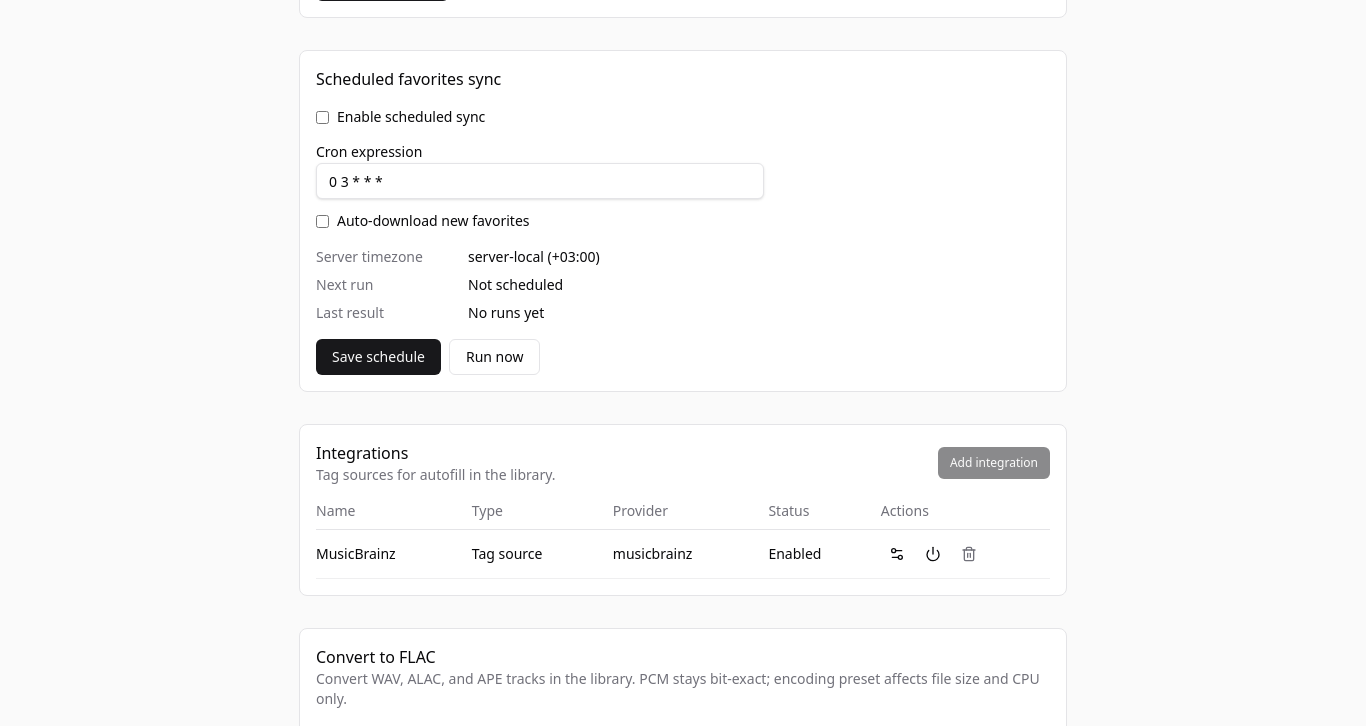
SettingsPage › runs Qobuz scheduled sync now from settings
(page scrolled)
Click the button "Run now" at (495,357), box [449,339,540,375]
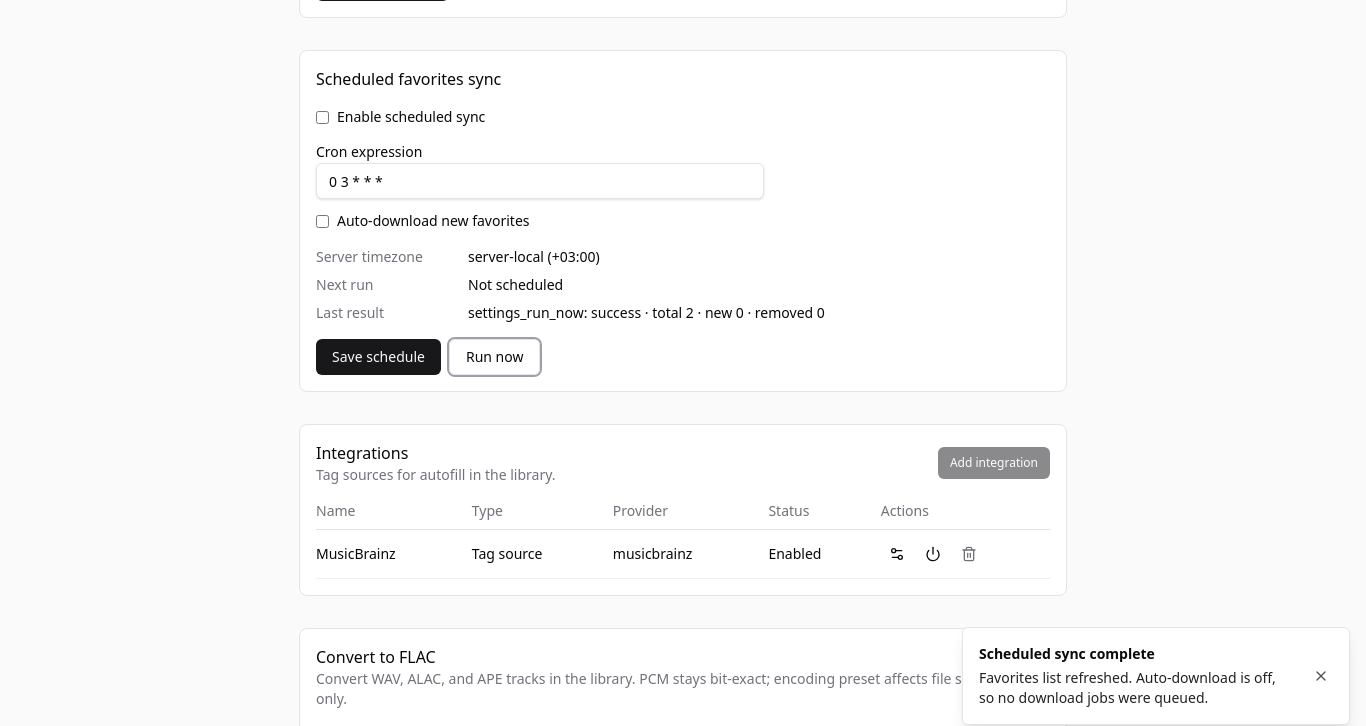
Now the text "Auto-download is off, so no download jobs were queued" is shown, box [979,668,1276,707]
Now the text "settings_run_now: success · total 2 · new 0 · removed 0" is shown, box [468,303,825,322]
